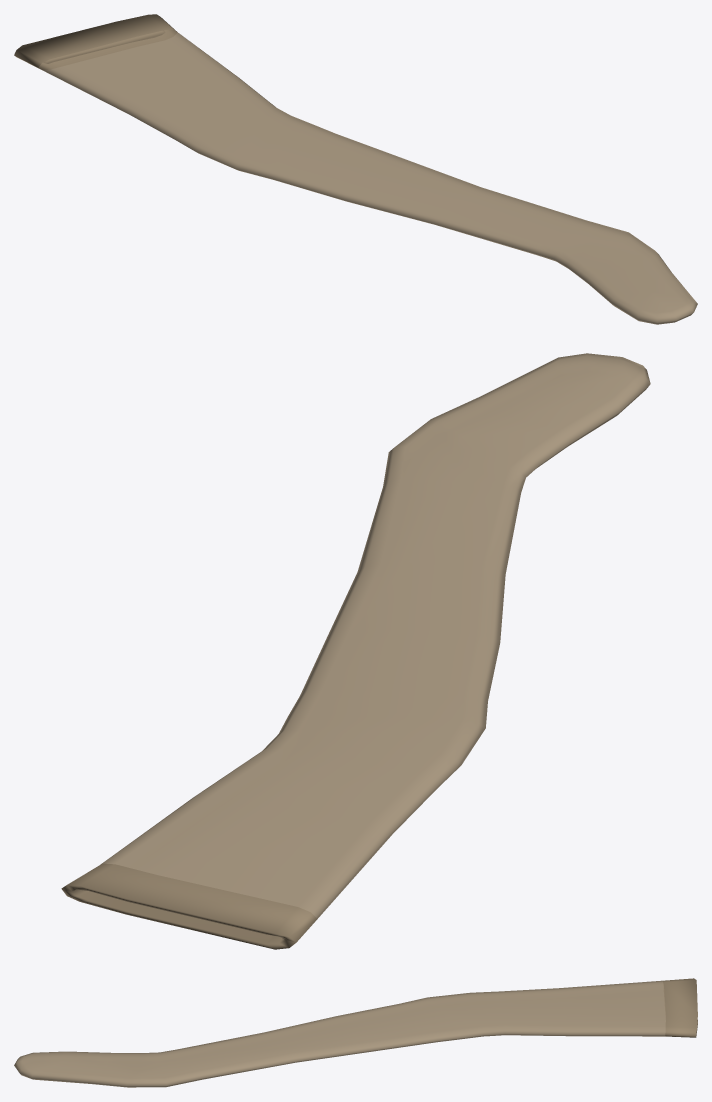
Rendered from bas.obj.
3 views of the same model, one above another, from view 1: azimuth 30°, elevation 25°; view 2: azimuth 150°, elevation 25°; view 3: azimuth 270°, elevation 25° (orthographic). The views are drawn at different scales.
Parts seen in each view (by area): view 1: bas; view 2: bas; view 3: bas.
Part boxes in pixels (left/top/right/bottom): bas: left=14, top=14, right=697, bottom=324; bas: left=61, top=353, right=650, bottom=949; bas: left=14, top=978, right=697, bottom=1087.
Bounding box in the file's own units: 23.35 × 0.8244 × 63.68.
